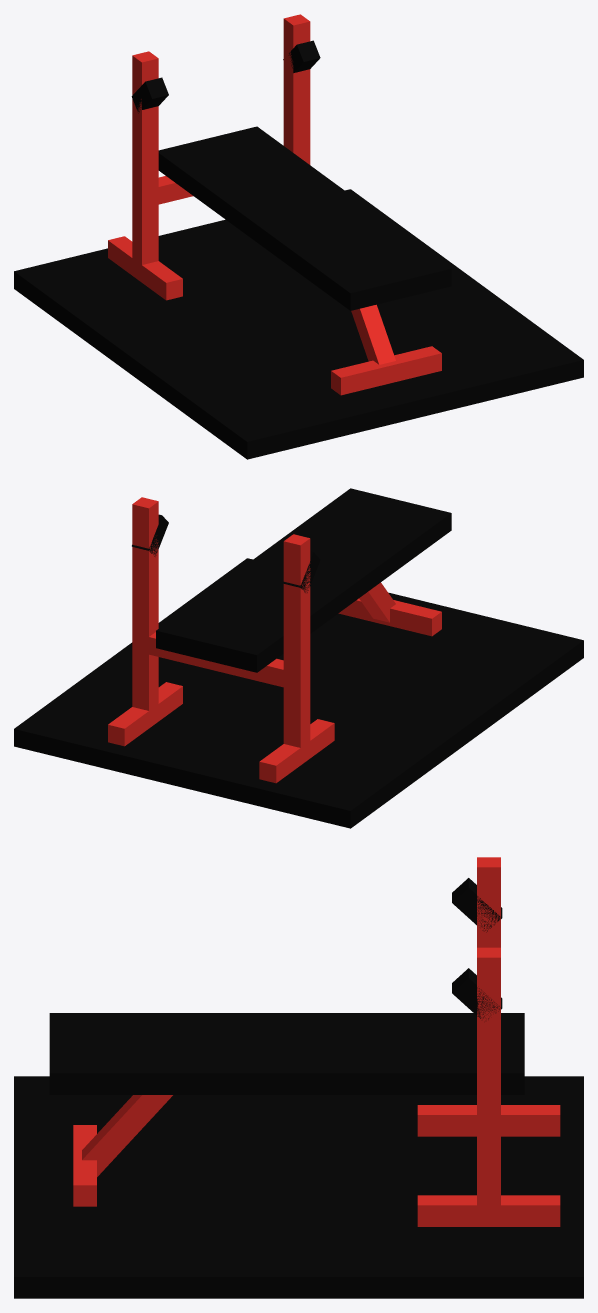
Rendered from benchpress 1.fbx.
3 renders of one model, top to bottom at view 1: azimuth 30°, elevation 25°; view 2: azimuth 150°, elevation 25°; view 3: azimuth 270°, elevation 25°, orthographic. The views are drawn at different scales.
Visible parts, largest first — view 1: Cube, Cube.003, Cube.007, Cube.006, Cube.001, Cube.005, Cube.002, Cube.010, Cube.008, Cube.009; view 2: Cube, Cube.003, Cube.007, Cube.006, Cube.008, Cube.004, Cube.005, Cube.001, Cube.002; view 3: Cube, Cube.003, Cube.006, Cube.004, Cube.005, Cube.002, Cube.007, Cube.001, Cube.010, Cube.009.
Part boxes in pixels (bbox=[...]): Cube: bbox=[14, 189, 583, 459]; Cube.003: bbox=[158, 126, 451, 310]; Cube.007: bbox=[132, 51, 158, 264]; Cube.006: bbox=[283, 14, 310, 164]; Cube.001: bbox=[331, 346, 441, 395]; Cube.005: bbox=[108, 236, 182, 300]; Cube.002: bbox=[351, 304, 395, 364]; Cube.010: bbox=[131, 77, 168, 113]; Cube.008: bbox=[132, 151, 310, 208]; Cube.009: bbox=[283, 40, 320, 73]; Cube: bbox=[14, 558, 583, 828]; Cube.003: bbox=[156, 488, 451, 672]; Cube.007: bbox=[283, 534, 310, 756]; Cube.006: bbox=[132, 497, 158, 714]; Cube.008: bbox=[132, 632, 310, 690]; Cube.004: bbox=[108, 682, 182, 746]; Cube.005: bbox=[259, 719, 334, 783]; Cube.001: bbox=[338, 598, 441, 636]; Cube.002: bbox=[359, 582, 395, 622]; Cube: bbox=[14, 1076, 583, 1298]; Cube.003: bbox=[49, 1013, 524, 1094]; Cube.006: bbox=[477, 947, 500, 1215]; Cube.004: bbox=[417, 1195, 560, 1226]; Cube.005: bbox=[417, 1105, 560, 1136]; Cube.002: bbox=[82, 1095, 172, 1176]; Cube.007: bbox=[477, 857, 500, 947]; Cube.001: bbox=[73, 1125, 96, 1206]; Cube.010: bbox=[452, 878, 502, 932]; Cube.009: bbox=[452, 968, 502, 1019].
Bounding box in the file's own units: 2000 × 1350 × 2400.
